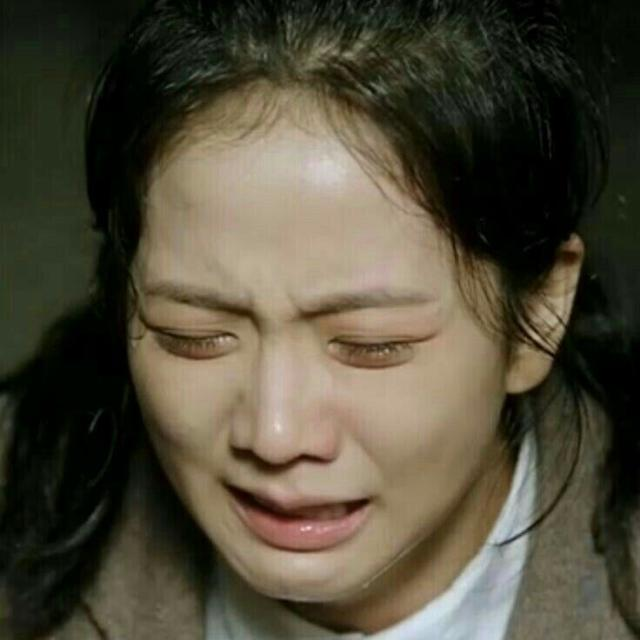sem_oculos: (113, 239, 569, 385)
